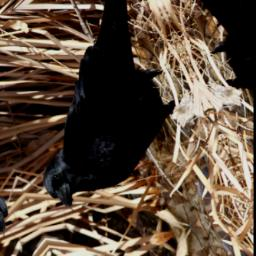Crow: (0, 0, 206, 216)
